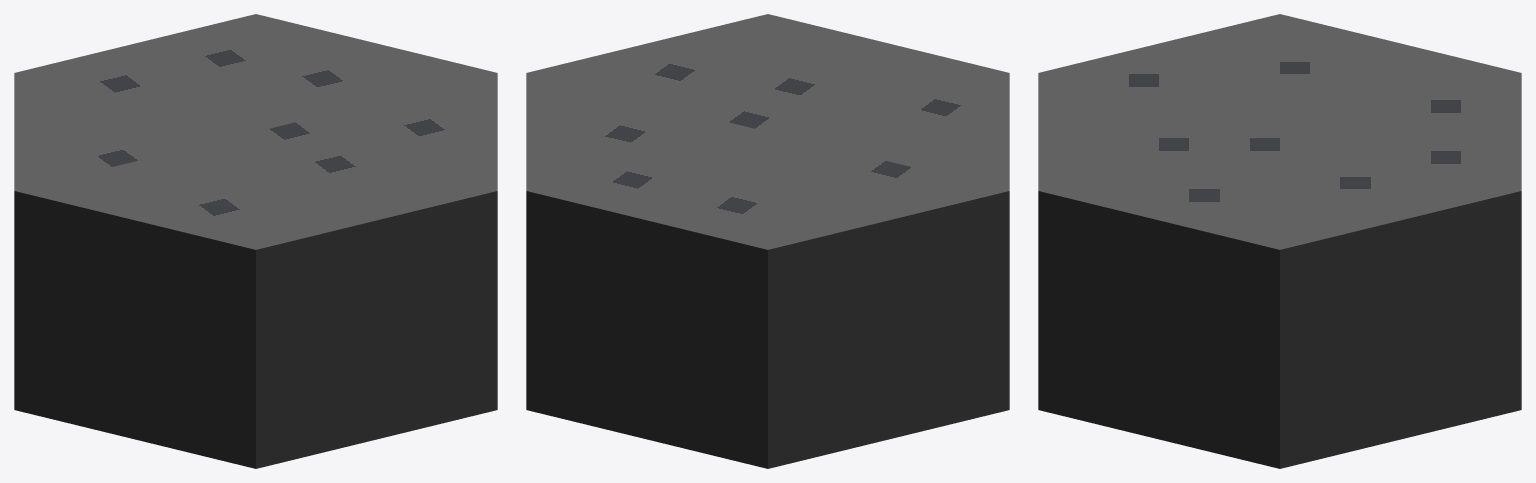
The model's file is rock.obj.
3 views of the same model, side by side, from view 1: azimuth 30°, elevation 25°; view 2: azimuth 150°, elevation 25°; view 3: azimuth 270°, elevation 25° (orthographic).
Visible parts, largest first — view 1: cylinder; view 2: cylinder; view 3: cylinder.
Part boxes in pixels (<box>): cylinder: <box>14,14,497,468</box>; cylinder: <box>526,14,1009,468</box>; cylinder: <box>1038,14,1521,468</box>.
Bounding box in the file's own units: 1.15 × 0.5 × 1.
1 material, 1 textured.
